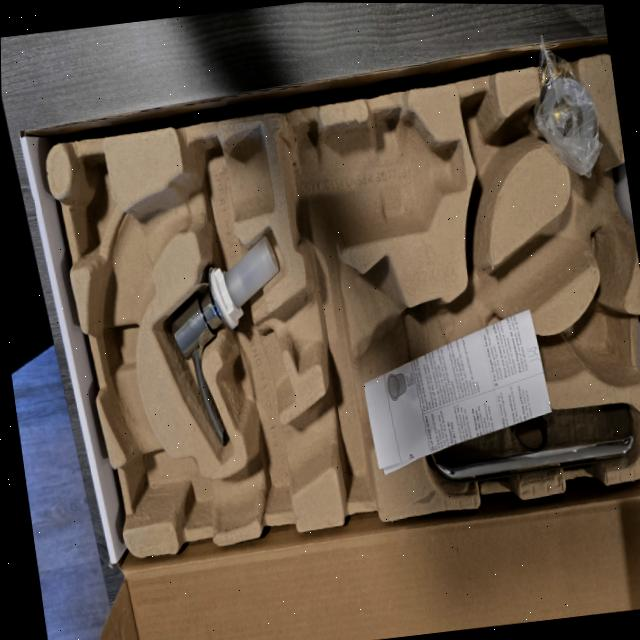1m: (87, 128, 633, 527)
2: (169, 231, 278, 448)
3m: (277, 112, 468, 251)
4o: (429, 404, 633, 481)
5m: (568, 302, 627, 378)
6: (532, 33, 600, 178)
7m: (459, 92, 531, 224)
8: (363, 306, 550, 476)
